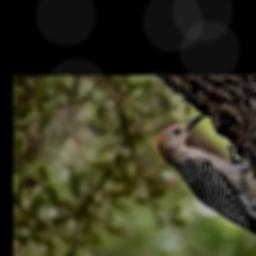Woodpecker: (157, 113, 256, 239)
